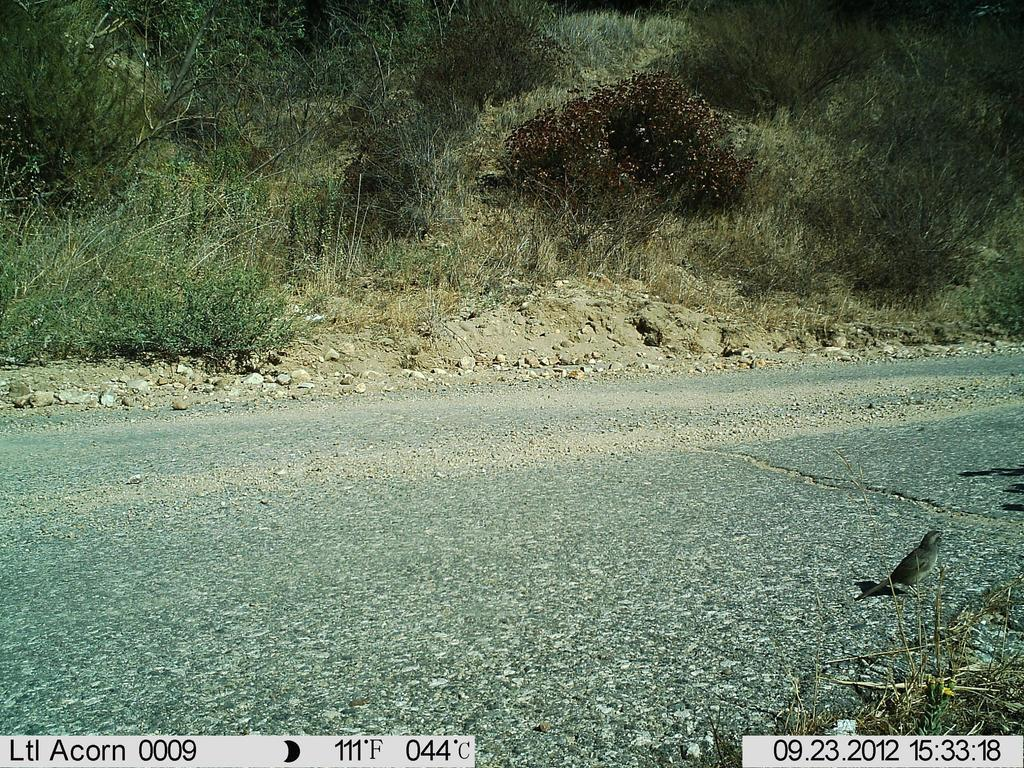bird: (818, 492, 980, 629)
